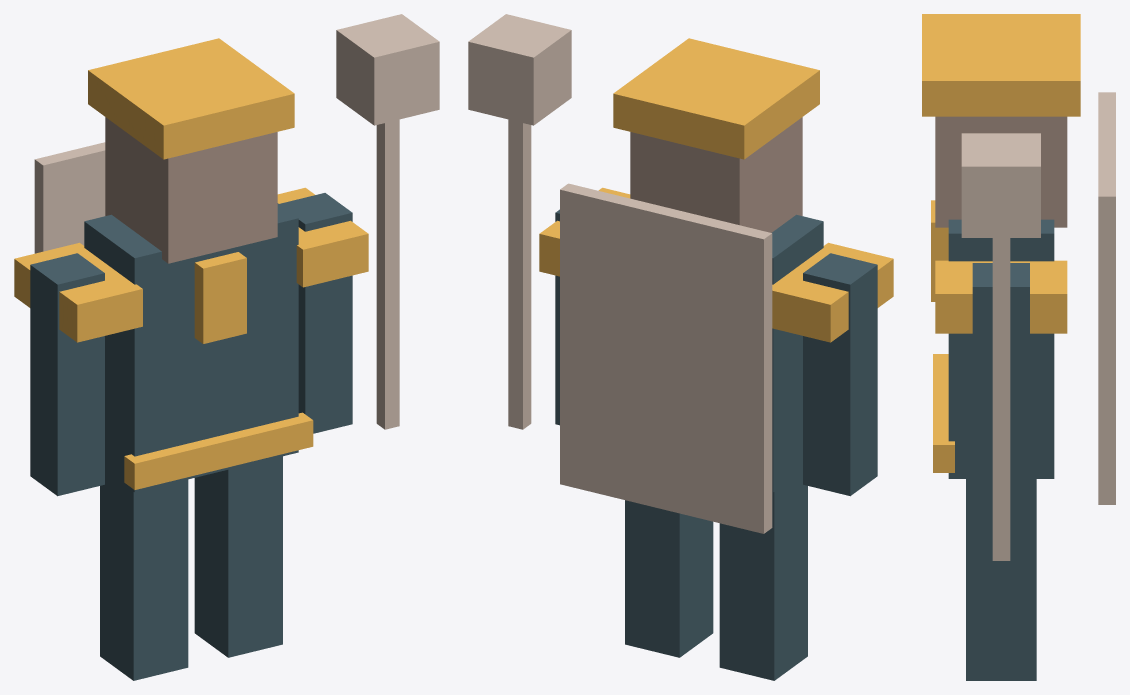
File: 13_varren_latchward_diver_from_intake.glb
3 views of the same model, side by side, from view 1: azimuth 30°, elevation 25°; view 2: azimuth 150°, elevation 25°; view 3: azimuth 270°, elevation 25° (orthographic). The views are drawn at different scales.
Parts seen in each view (by area): view 1: Varren Latchward, Diver from Intake; view 2: Varren Latchward, Diver from Intake; view 3: Varren Latchward, Diver from Intake.
Part boxes in pixels (bbox=[...]): Varren Latchward, Diver from Intake: bbox=[14, 14, 439, 680]; Varren Latchward, Diver from Intake: bbox=[468, 14, 893, 680]; Varren Latchward, Diver from Intake: bbox=[922, 14, 1115, 680].
Bounding box in the file's own units: 1.07 × 1.54 × 0.4555.
